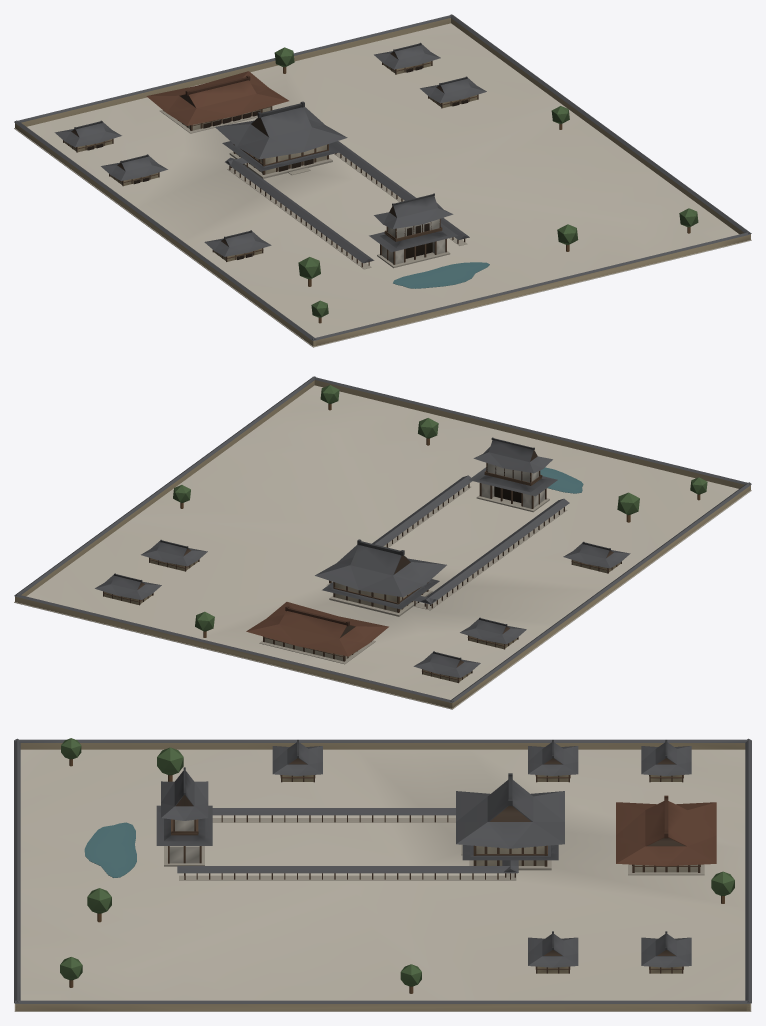
Rendered from shokokuji-1750.glb.
3 views of the same model, one above another, from view 1: azimuth 30°, elevation 25°; view 2: azimuth 150°, elevation 25°; view 3: azimuth 270°, elevation 25° (orthographic). The views are drawn at different scales.
Parts seen in each view (by area): view 1: p0_grounds, p2_roofs, p1_halls; view 2: p0_grounds, p2_roofs, p1_halls; view 3: p0_grounds, p2_roofs, p1_halls.
Part boxes in pixels (<box>): p0_grounds: <box>14,14,751,347</box>; p2_roofs: <box>54,42,698,323</box>; p1_halls: <box>63,61,478,269</box>; p0_grounds: <box>14,376,751,709</box>; p2_roofs: <box>95,385,707,677</box>; p1_halls: <box>103,463,621,683</box>; p0_grounds: <box>14,738,751,1011</box>; p2_roofs: <box>60,738,734,993</box>; p1_halls: <box>164,775,704,973</box>.
Bounding box in the file's own units: 220 × 27.44 × 260.
